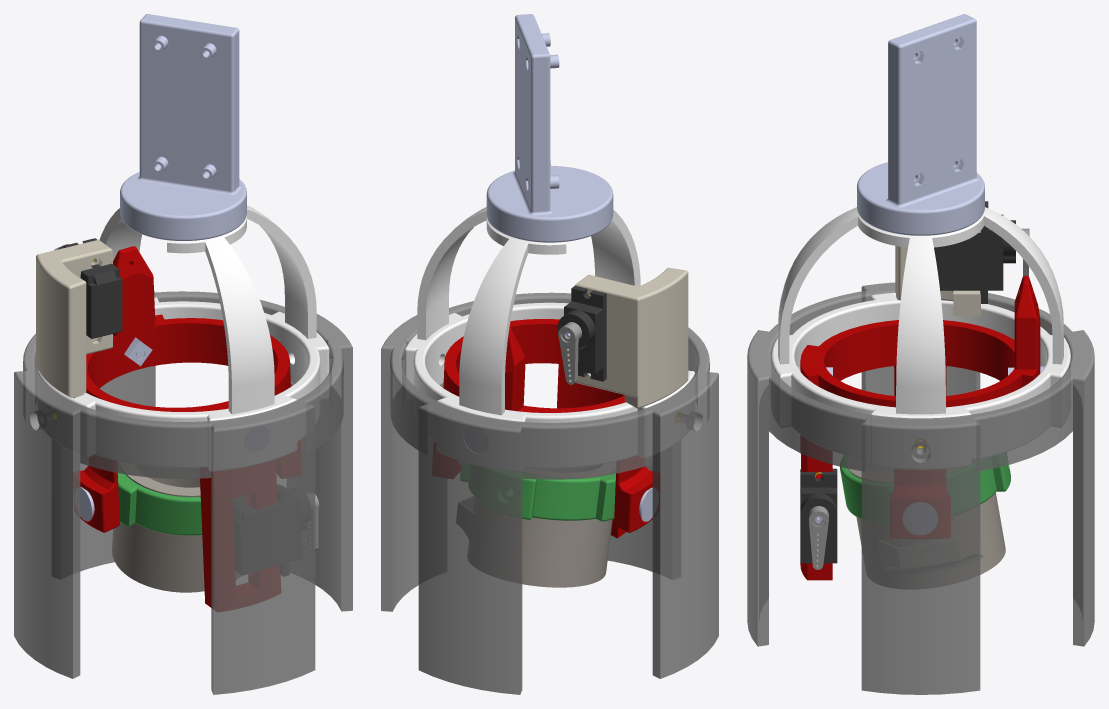
The model's file is tvc_cad.glb.
3 views of the same model, side by side, from view 1: azimuth 30°, elevation 25°; view 2: azimuth 150°, elevation 25°; view 3: azimuth 270°, elevation 25° (orthographic).
Parts seen in each view (by area): view 1: outer_stand-1, Outer_Ring-2, elec_holder-1, Middle_Ring-1, top_servo_attatchment-1, Motor_Retainer-1, servo.MG90S-1, Inner_Ring-1, servo.MG90S-2, MG90S Servo Horn (1 spork)-1; view 2: outer_stand-1, Outer_Ring-2, elec_holder-1, top_servo_attatchment-1, Motor_Retainer-1, Middle_Ring-1, Inner_Ring-1, servo.MG90S-2, MG90S Servo Horn (1 spork)-2; view 3: outer_stand-1, Outer_Ring-2, elec_holder-1, Middle_Ring-1, Motor_Retainer-1, Inner_Ring-1, servo.MG90S-2, servo.MG90S-1, top_servo_attatchment-1, MG90S Servo Horn (1 spork)-1, Pins-5.
Boxes of the visible parts, x1,y1,x2,y2 form: outer_stand-1: (14,290,352,694); Outer_Ring-2: (37,205,329,471); elec_holder-1: (120,14,246,240); Middle_Ring-1: (73,246,301,611); top_servo_attatchment-1: (36,239,112,397); Motor_Retainer-1: (112,461,240,592); servo.MG90S-1: (233,485,310,576); Inner_Ring-1: (117,465,202,535); servo.MG90S-2: (57,238,122,338); MG90S Servo Horn (1 spork)-1: (307,492,319,550); outer_stand-1: (381,292,718,694); Outer_Ring-2: (404,207,695,471); elec_holder-1: (486,14,613,242); top_servo_attatchment-1: (575,267,688,408); Motor_Retainer-1: (456,462,615,587); Middle_Ring-1: (432,319,660,538); Inner_Ring-1: (460,462,615,521); servo.MG90S-2: (557,286,606,381); MG90S Servo Horn (1 spork)-2: (558,322,581,384); outer_stand-1: (747,282,1094,694); Outer_Ring-2: (771,207,1070,469); elec_holder-1: (857,14,984,235); Middle_Ring-1: (800,275,1040,580); Motor_Retainer-1: (848,457,1005,588); Inner_Ring-1: (840,453,1010,523); servo.MG90S-2: (934,201,1015,303); servo.MG90S-1: (800,468,837,563); top_servo_attatchment-1: (895,231,980,316); MG90S Servo Horn (1 spork)-1: (809,506,828,569); Pins-5: (903,503,937,534).
Bounding box in the file's own units: 0.1177 × 0.2235 × 0.1177.
